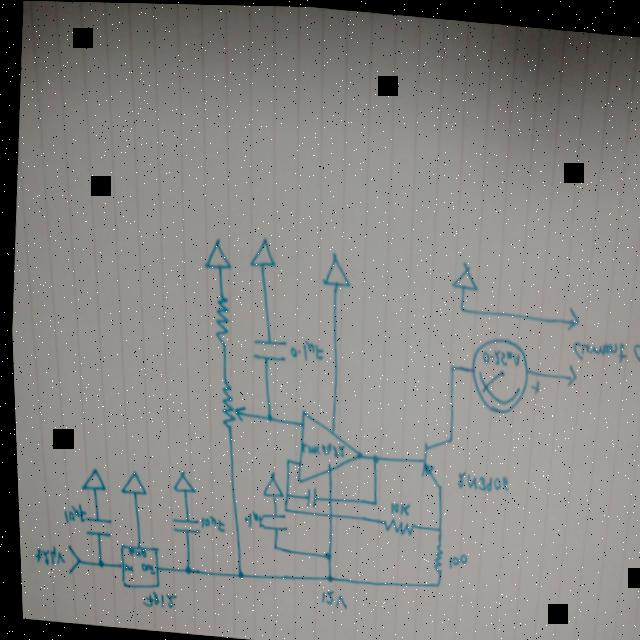capacitor: (246, 331, 284, 364), (164, 511, 195, 536), (78, 514, 107, 538), (255, 509, 284, 531), (297, 482, 316, 508)
crossover: (320, 493, 329, 503), (321, 508, 330, 517)
ground: (316, 247, 351, 288), (199, 234, 231, 272), (244, 234, 275, 268), (445, 259, 477, 290), (113, 467, 144, 495), (73, 464, 103, 492), (255, 468, 280, 499), (166, 467, 192, 493)
junction: (229, 566, 241, 581), (259, 408, 271, 423), (176, 561, 188, 575), (89, 555, 101, 569), (364, 449, 376, 463), (318, 569, 329, 583), (317, 547, 328, 561), (429, 522, 440, 533), (443, 359, 452, 372), (266, 539, 275, 551), (454, 301, 463, 312), (428, 577, 437, 587), (366, 497, 373, 507), (279, 490, 286, 498), (280, 456, 287, 464), (278, 504, 283, 510)
resistor: (212, 376, 245, 430), (206, 290, 231, 347), (376, 514, 410, 534), (426, 539, 440, 574)
terminal: (59, 543, 76, 575), (561, 302, 578, 330), (560, 360, 574, 385)
text: (566, 333, 640, 364), (449, 464, 508, 493), (284, 334, 322, 361), (135, 587, 174, 611), (26, 542, 61, 567), (296, 439, 341, 457), (477, 345, 516, 364), (56, 500, 83, 525), (313, 585, 343, 607), (194, 511, 221, 532), (383, 496, 408, 515), (237, 507, 259, 528), (440, 548, 463, 568), (122, 546, 141, 558), (134, 561, 150, 574), (117, 561, 129, 571)
transistor: (412, 433, 454, 490)
